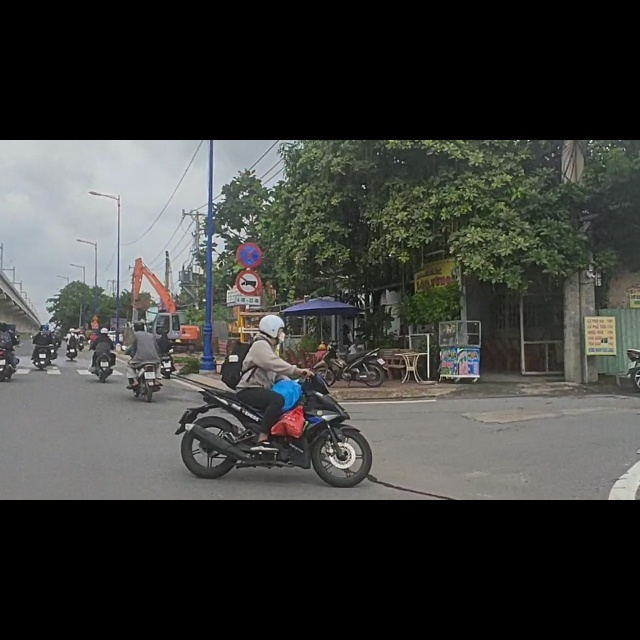bien_cam: (235, 183, 263, 229), (237, 232, 261, 277)
